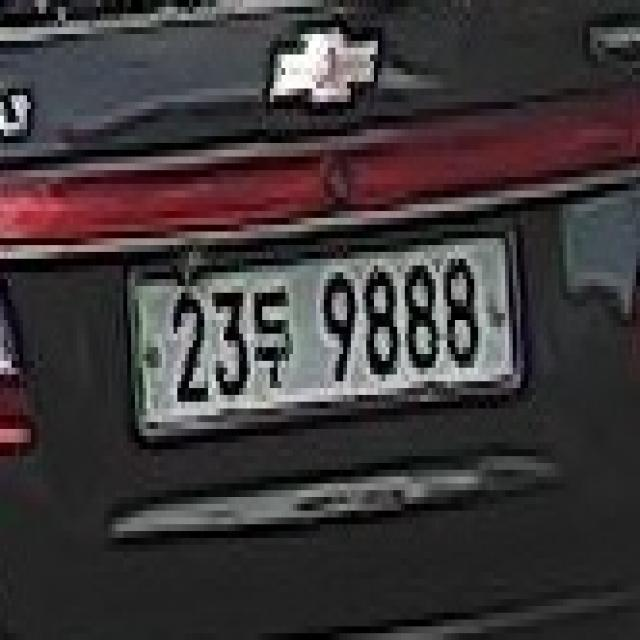2: (165, 285, 212, 408)
3: (208, 281, 253, 403)
8: (441, 245, 493, 377), (399, 255, 445, 380), (363, 256, 405, 384)
9: (316, 267, 362, 386)
du: (251, 273, 298, 393)
license_plate: (129, 227, 520, 430)
